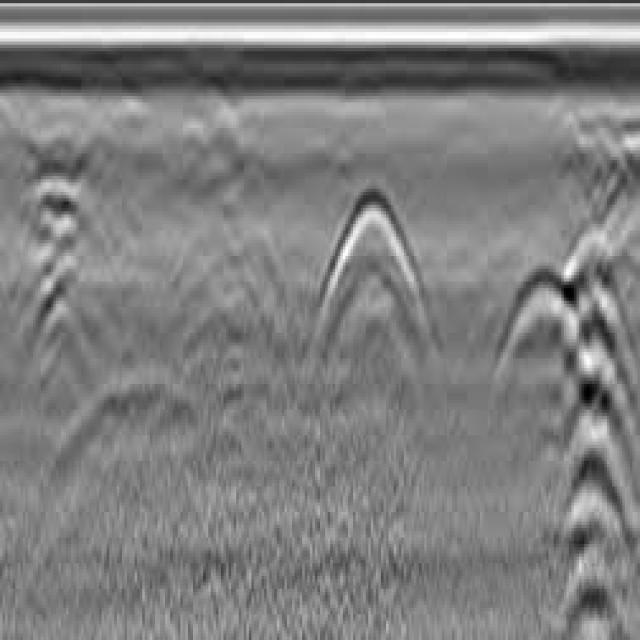hyperbola: (298, 178, 439, 377), (478, 250, 586, 394)
